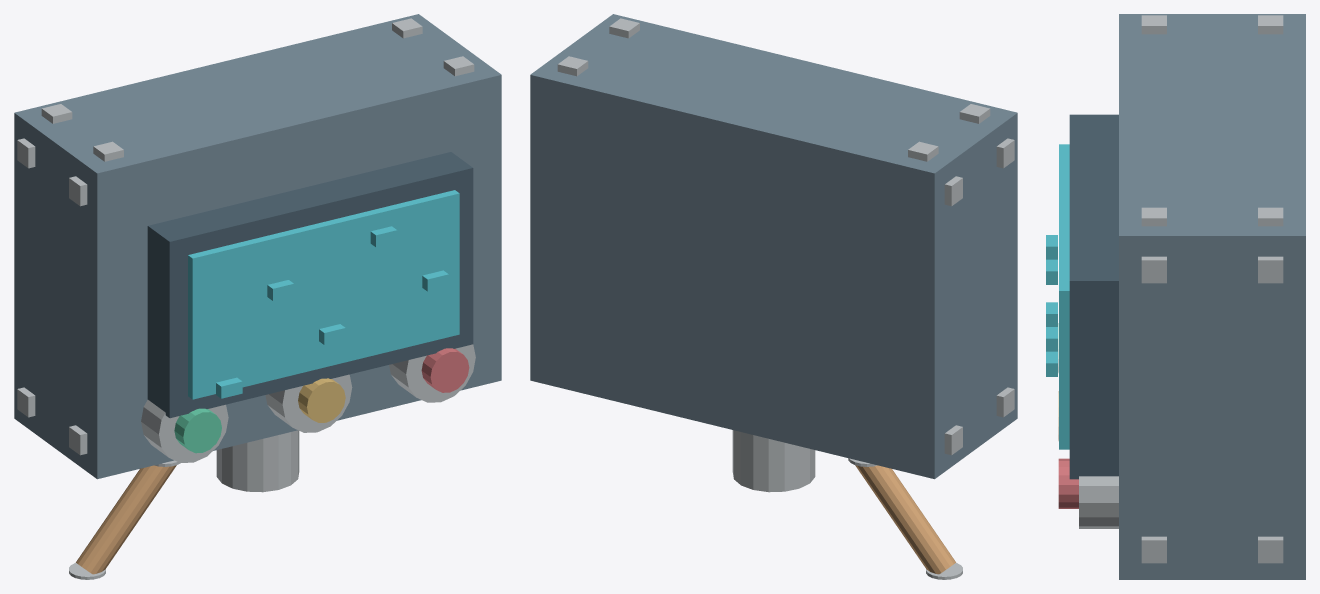
The model's file is 48_L77_CopperResidueChemistryMonitor.glb.
The picture shows the model from 3 angles, left to right: view 1: azimuth 30°, elevation 25°; view 2: azimuth 150°, elevation 25°; view 3: azimuth 270°, elevation 25°; orthographic projection. The views are drawn at different scales.
Parts seen in each view (by area): view 1: CopperResidueChemistryMonitor_Node_0000, CopperResidueChemistryMonitor_Node_0010, CopperResidueChemistryMonitor_Node_0009, CopperResidueChemistryMonitor_Node_0022, CopperResidueChemistryMonitor_Node_0023, CopperResidueChemistryMonitor_Node_0016, CopperResidueChemistryMonitor_Node_0020, CopperResidueChemistryMonitor_Node_0018, CopperResidueChemistryMonitor_Node_0021, CopperResidueChemistryMonitor_Node_0017, CopperResidueChemistryMonitor_Node_0019; view 2: CopperResidueChemistryMonitor_Node_0000, CopperResidueChemistryMonitor_Node_0022, CopperResidueChemistryMonitor_Node_0023; view 3: CopperResidueChemistryMonitor_Node_0000, CopperResidueChemistryMonitor_Node_0009, CopperResidueChemistryMonitor_Node_0010, CopperResidueChemistryMonitor_Node_0020, CopperResidueChemistryMonitor_Node_0021, CopperResidueChemistryMonitor_Node_0001, CopperResidueChemistryMonitor_Node_0002, CopperResidueChemistryMonitor_Node_0003, CopperResidueChemistryMonitor_Node_0004, CopperResidueChemistryMonitor_Node_0005, CopperResidueChemistryMonitor_Node_0006, CopperResidueChemistryMonitor_Node_0007 (+1 smaller).
Part boxes in pixels (x1,y1,x2,y2): CopperResidueChemistryMonitor_Node_0000: [14, 14, 501, 479]; CopperResidueChemistryMonitor_Node_0010: [188, 190, 459, 399]; CopperResidueChemistryMonitor_Node_0009: [147, 152, 473, 418]; CopperResidueChemistryMonitor_Node_0022: [216, 430, 299, 492]; CopperResidueChemistryMonitor_Node_0023: [76, 465, 176, 574]; CopperResidueChemistryMonitor_Node_0016: [141, 400, 228, 462]; CopperResidueChemistryMonitor_Node_0020: [389, 344, 475, 402]; CopperResidueChemistryMonitor_Node_0018: [265, 374, 352, 432]; CopperResidueChemistryMonitor_Node_0021: [421, 348, 469, 392]; CopperResidueChemistryMonitor_Node_0017: [174, 408, 221, 453]; CopperResidueChemistryMonitor_Node_0019: [298, 378, 345, 422]; CopperResidueChemistryMonitor_Node_0000: [530, 14, 1017, 479]; CopperResidueChemistryMonitor_Node_0022: [732, 430, 815, 492]; CopperResidueChemistryMonitor_Node_0023: [855, 465, 955, 574]; CopperResidueChemistryMonitor_Node_0000: [1119, 14, 1305, 579]; CopperResidueChemistryMonitor_Node_0009: [1069, 114, 1118, 479]; CopperResidueChemistryMonitor_Node_0010: [1059, 144, 1069, 449]; CopperResidueChemistryMonitor_Node_0020: [1079, 476, 1118, 528]; CopperResidueChemistryMonitor_Node_0021: [1058, 458, 1078, 508]; CopperResidueChemistryMonitor_Node_0001: [1258, 536, 1283, 563]; CopperResidueChemistryMonitor_Node_0002: [1141, 536, 1166, 563]; CopperResidueChemistryMonitor_Node_0003: [1258, 256, 1283, 283]; CopperResidueChemistryMonitor_Node_0004: [1141, 256, 1166, 283]; CopperResidueChemistryMonitor_Node_0005: [1258, 15, 1283, 34]; CopperResidueChemistryMonitor_Node_0006: [1141, 15, 1166, 34]; CopperResidueChemistryMonitor_Node_0007: [1258, 207, 1283, 226].
Size of the model in its own units: 0.54 by 0.5559 by 0.2582.
